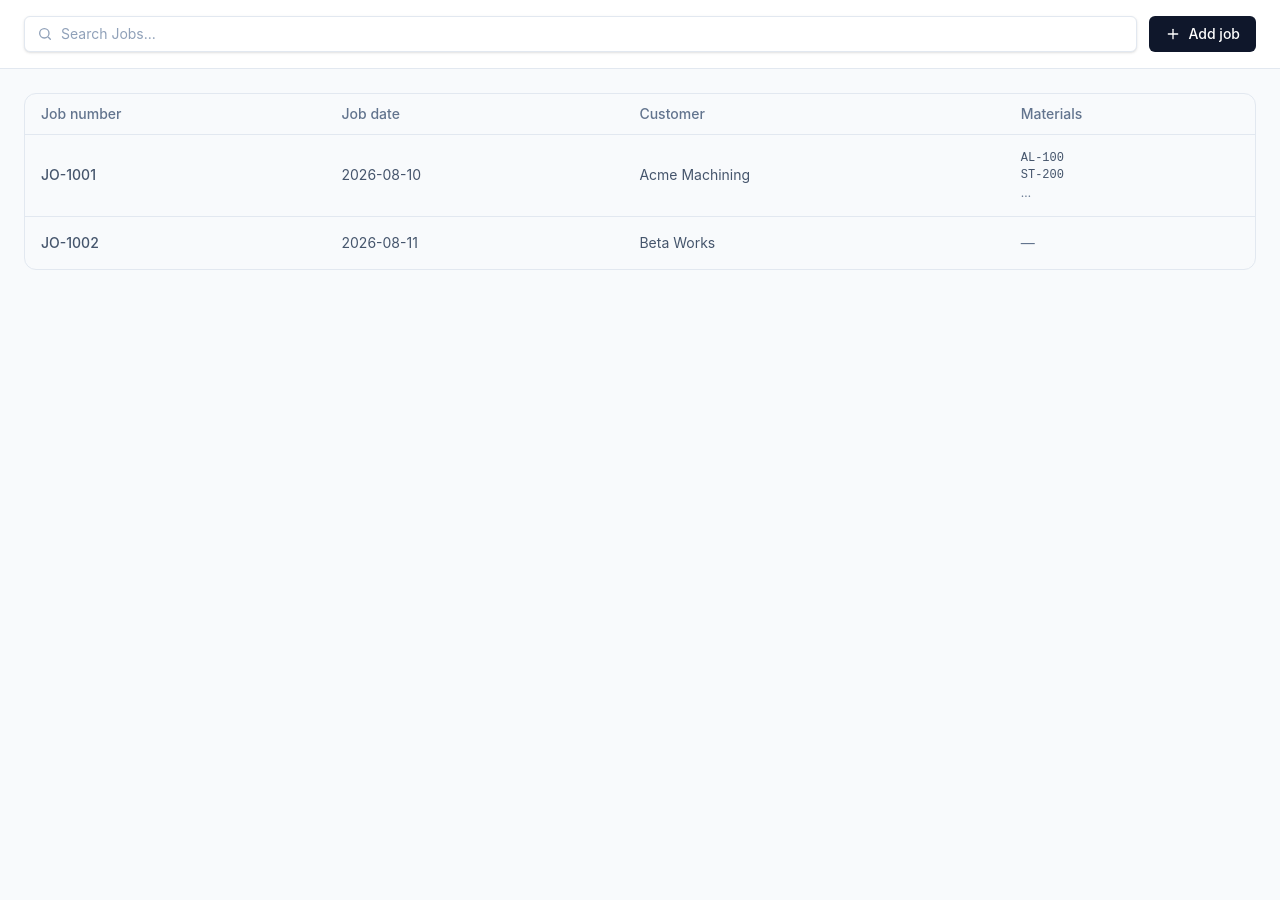
Test: JobsWorkspace › surfaces duplicate job number errors from the client
expect the button "JO-1001" is shown: met, box left=41, top=165, right=96, bottom=185
Click the button "Add job". click: coordinates (1202, 34)
box: left=1148, top=16, right=1256, bottom=52
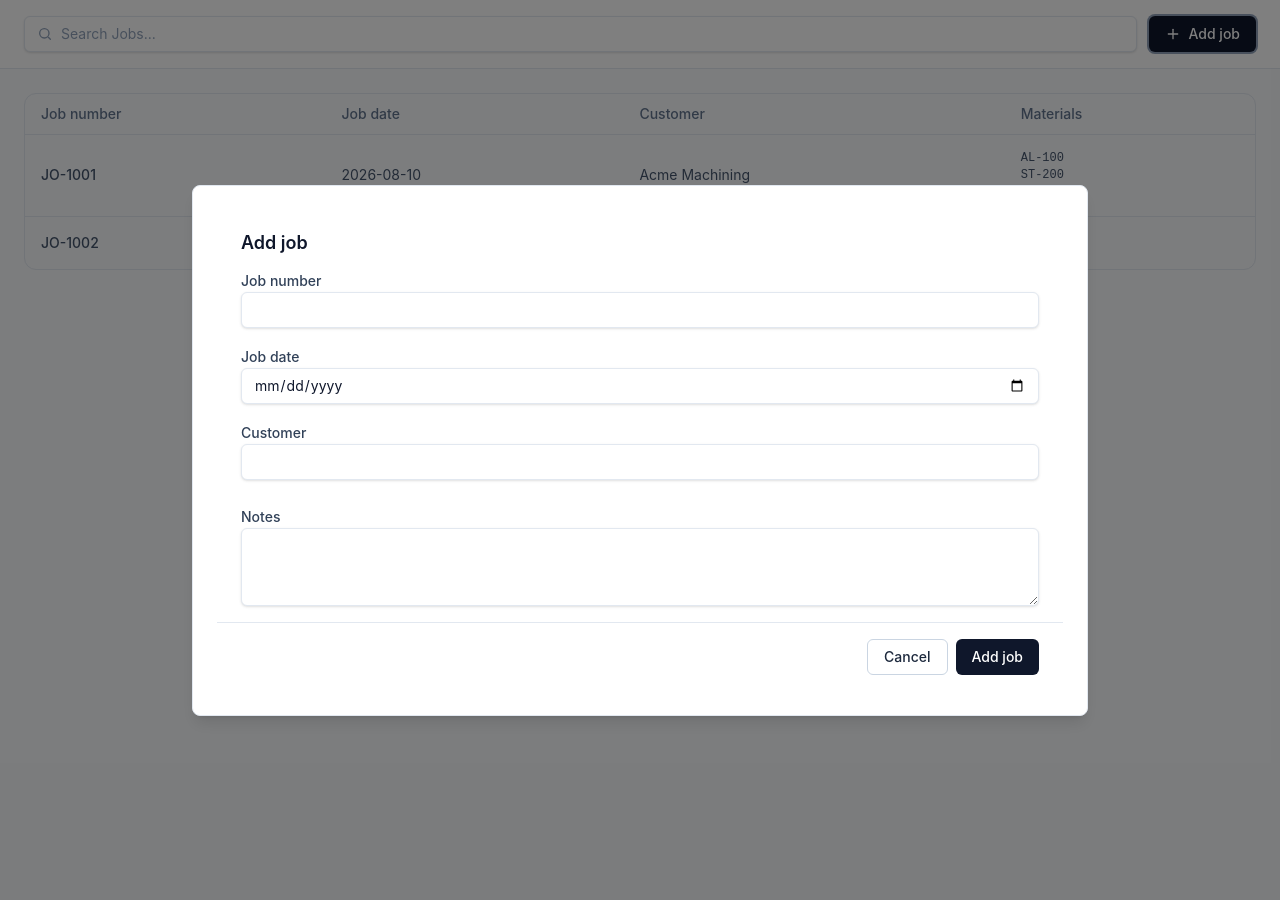
Type "JO-1001" into the field labelled "Job number". click: coordinates (640, 310)
box: left=241, top=292, right=1039, bottom=328
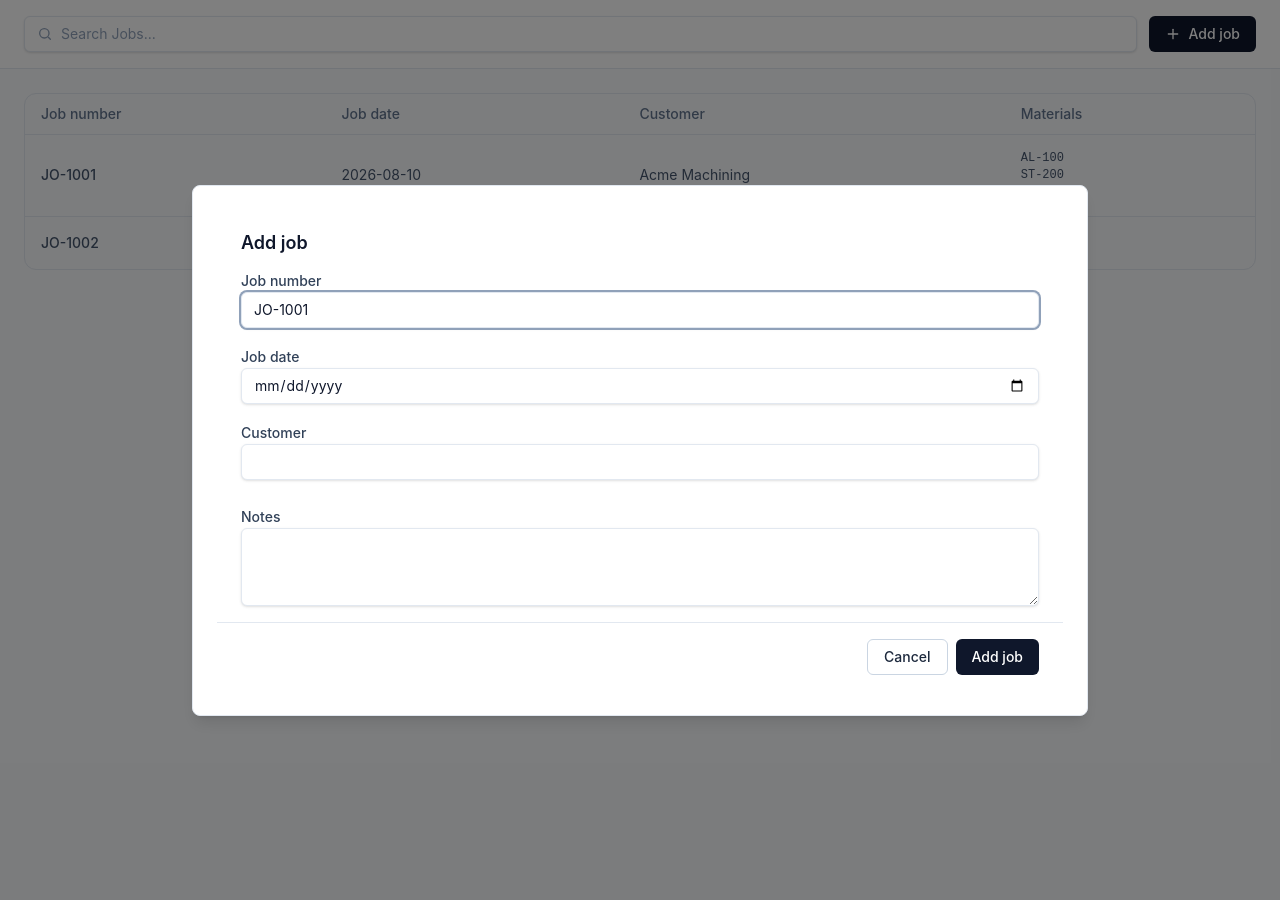
Type "2026-08-12" into the date field labelled "Job date". click: coordinates (640, 386)
box: left=241, top=368, right=1039, bottom=404
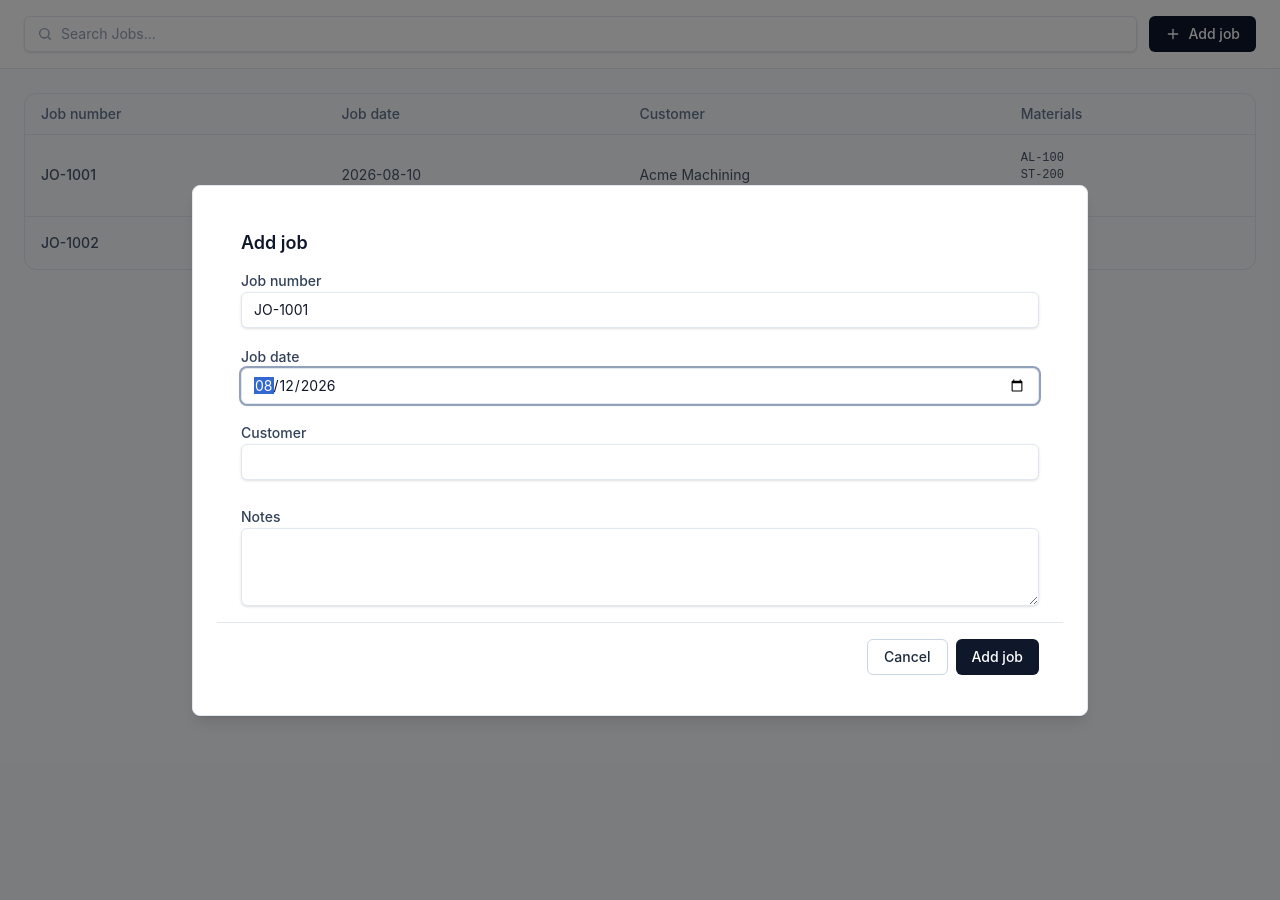
Click the button "Add job". click: coordinates (997, 656)
box: left=956, top=638, right=1039, bottom=674
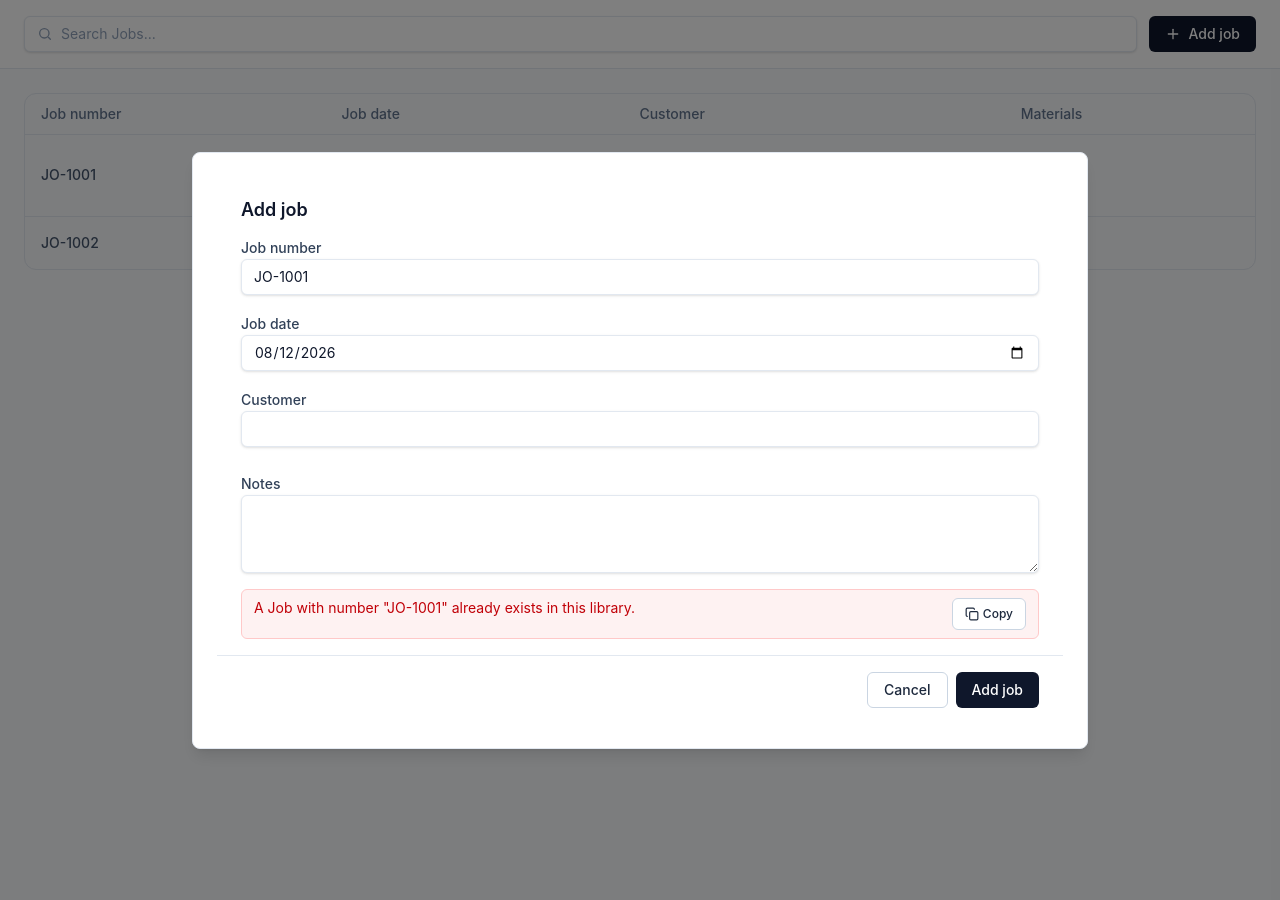
expect the text "A Job with number \"JO-1001\" already exists in this library." is shown: met, box left=254, top=598, right=635, bottom=616
